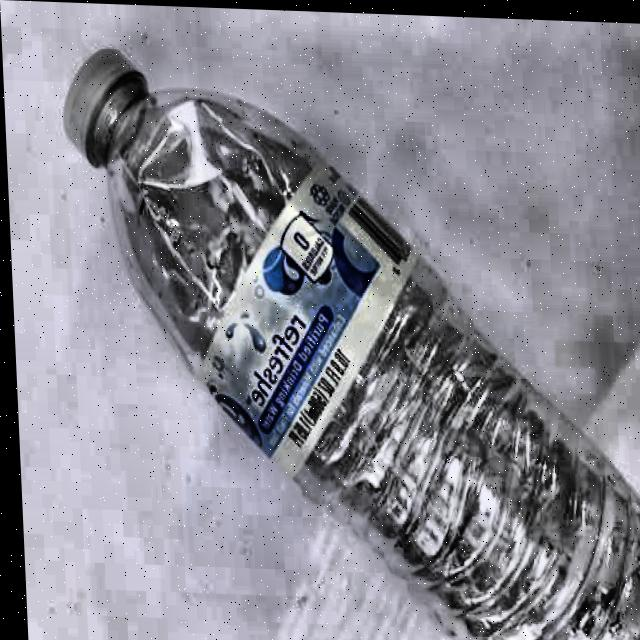plastic: (61, 44, 640, 640)
